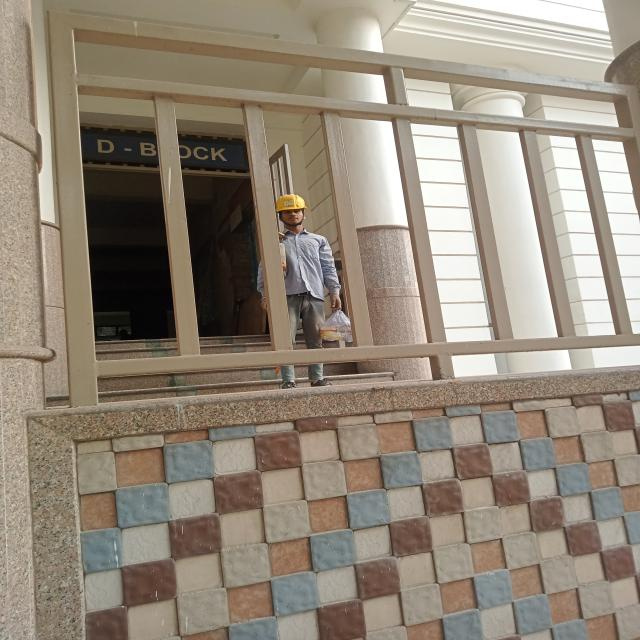no jacket: (261, 188, 346, 388)
